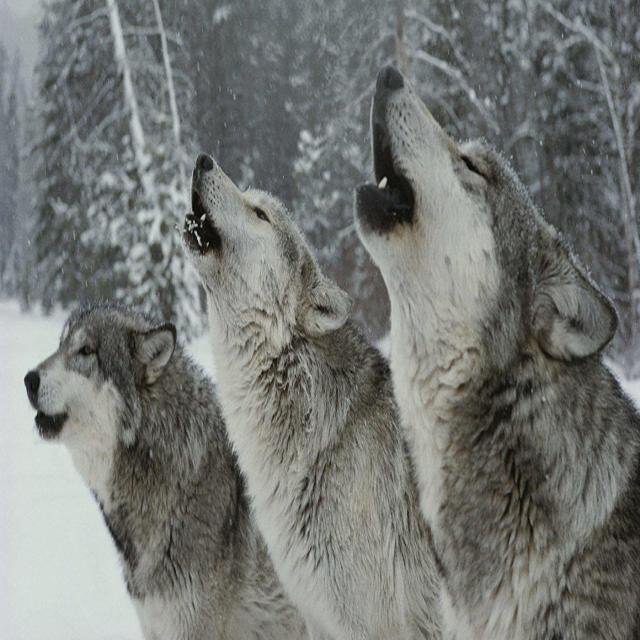Wolf: (345, 34, 636, 640), (164, 111, 428, 604), (8, 248, 266, 639)
